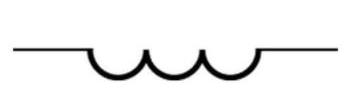inductor: (77, 29, 279, 91)
